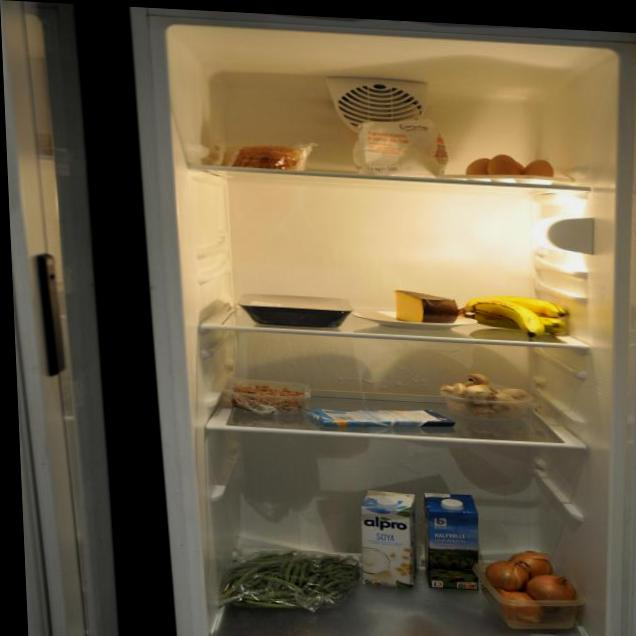banana: (462, 281, 589, 349)
bread: (229, 140, 313, 184)
cheese: (365, 272, 464, 344)
eggs: (456, 155, 568, 194)
green beans: (227, 532, 351, 617)
meat: (235, 283, 355, 336)
milk: (418, 488, 485, 601), (353, 485, 420, 592)
mushroom: (438, 364, 535, 420)
onion: (473, 551, 591, 636)
